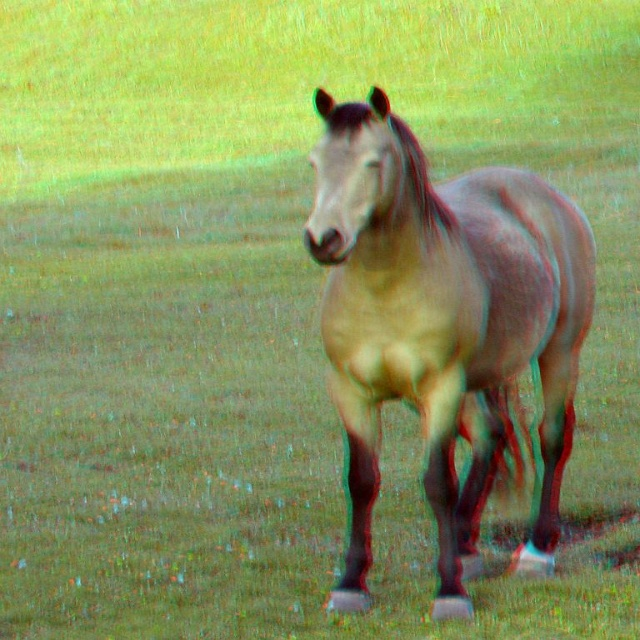Horse: (302, 88, 598, 622)
